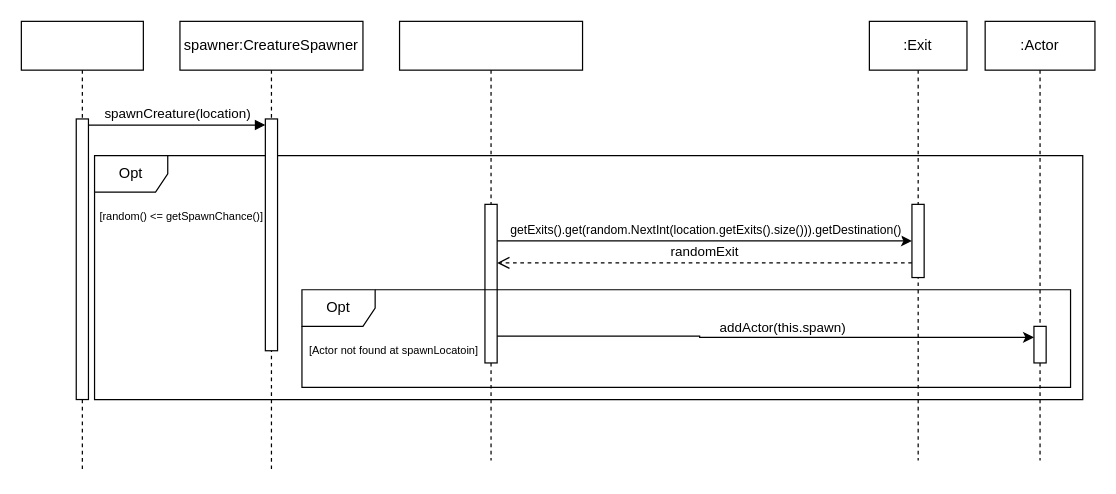
Image size: 1116x494. Some labels were removed from this diagram. Each missing label, with the centre of its shape:
":Crater" goes at (x=81, y=246).
"spawnLocation:Location" goes at (x=490, y=240).
